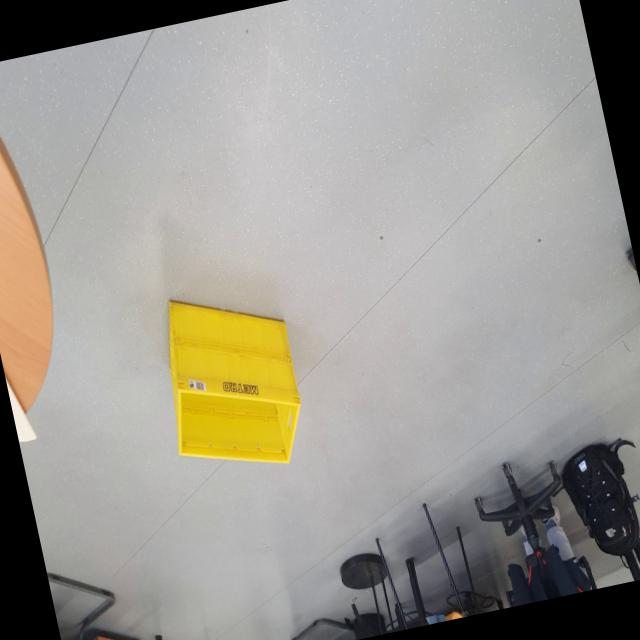box: (142, 269, 324, 506)
